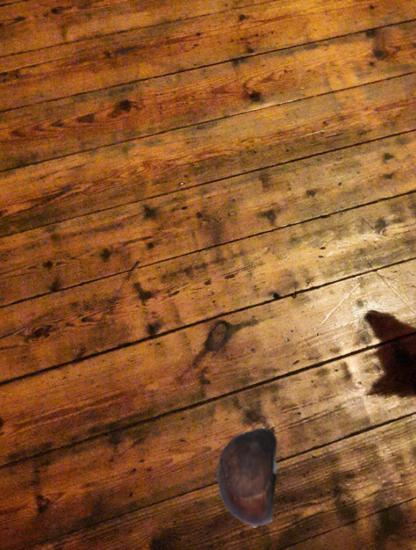Chestnut: (196, 426, 297, 527)
